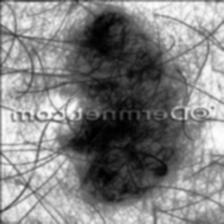Potentially Malignant Skin Tumors: (65, 9, 182, 200)
